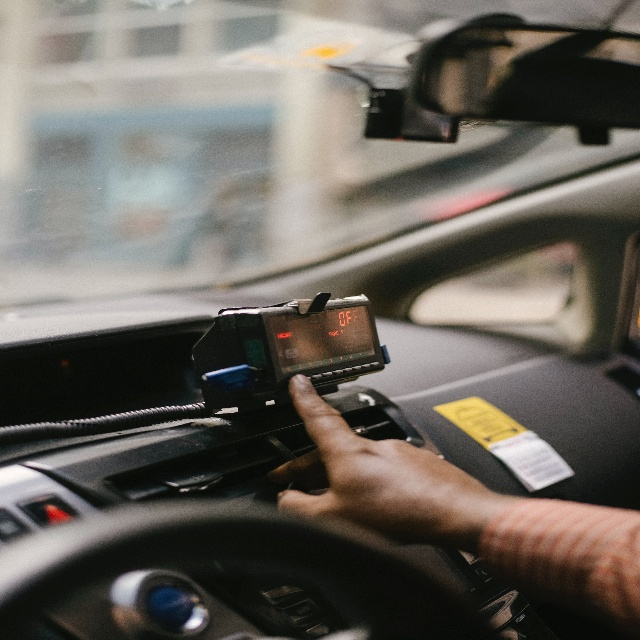Sin_guantes: (266, 372, 479, 546)
